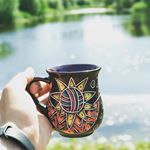cups: (25, 62, 106, 140)
